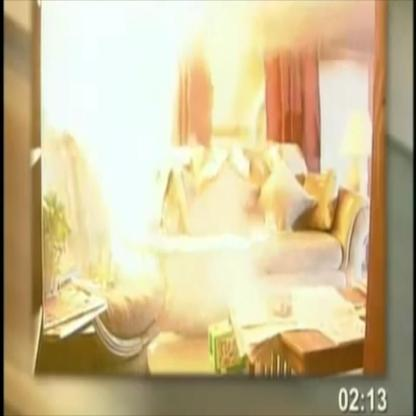fire: (83, 37, 167, 272)
